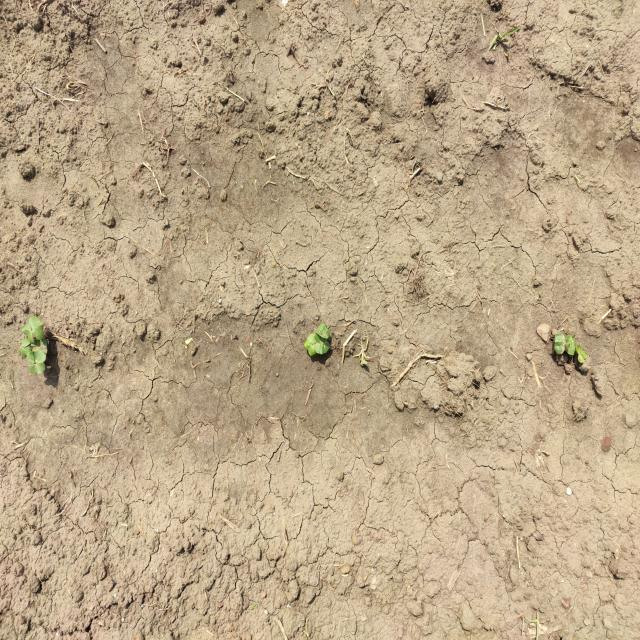seedling_s1: (29, 317, 44, 340), (21, 324, 34, 344), (26, 351, 46, 364), (554, 333, 565, 355), (314, 341, 330, 355), (28, 363, 45, 375), (304, 339, 316, 356), (37, 338, 47, 354), (314, 329, 330, 339), (18, 346, 31, 357), (314, 334, 328, 344), (564, 335, 572, 352), (318, 324, 330, 335), (307, 333, 316, 346), (20, 338, 31, 348), (30, 339, 39, 351), (578, 351, 587, 363), (567, 344, 574, 357), (570, 338, 576, 353), (576, 345, 582, 355)
